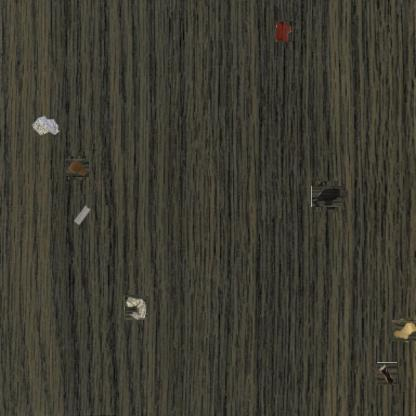dirty: (31, 114, 61, 138), (124, 295, 148, 319), (393, 317, 416, 342), (377, 363, 398, 385), (72, 204, 92, 226), (67, 158, 88, 178)
liquid: (314, 183, 340, 210), (274, 20, 292, 42)
